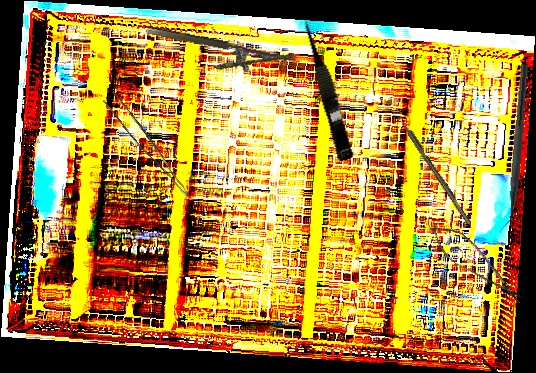Chopper: (497, 63, 529, 234)
Hook Surgical: (395, 112, 473, 227)
Micro Scissor: (422, 215, 531, 311), (298, 15, 357, 162)
Needle Holder: (141, 24, 298, 85)
Tissue Forceps: (99, 90, 202, 199)
